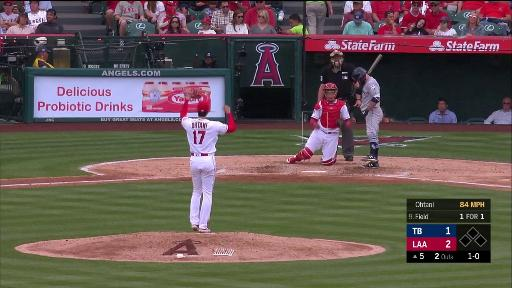pitcher: (180, 87, 237, 232)
